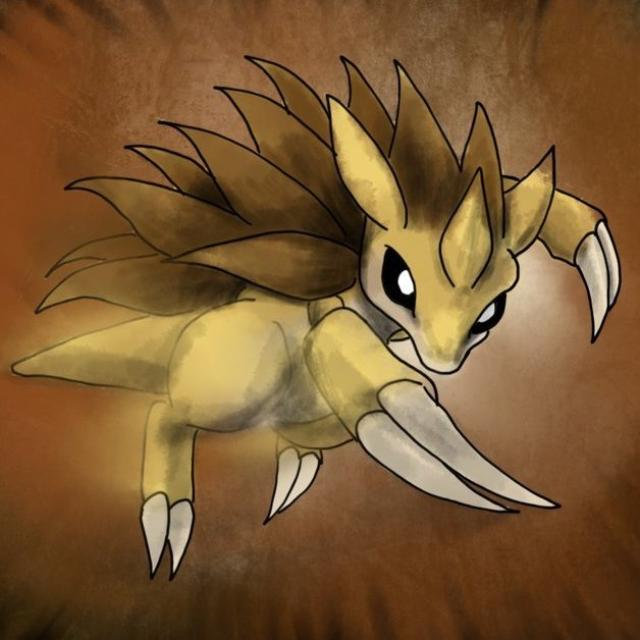Sandslash: (89, 106, 596, 532)
